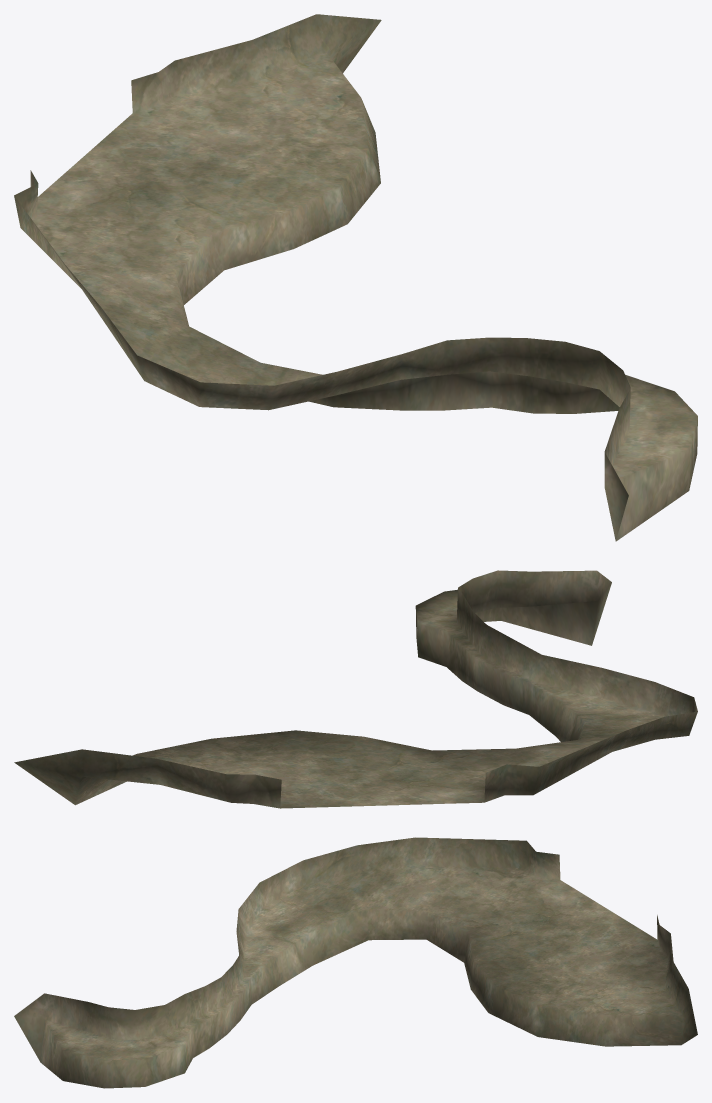
The model's file is EKH_CAVERNS_PS_CA_OBJECT09.fbx.
3 renders of one model, top to bottom at view 1: azimuth 30°, elevation 25°; view 2: azimuth 150°, elevation 25°; view 3: azimuth 270°, elevation 25°, orthographic. The views are drawn at different scales.
Visible parts, largest first — view 1: EKH_CAVERNS_PS_CA_OBJECT09; view 2: EKH_CAVERNS_PS_CA_OBJECT09; view 3: EKH_CAVERNS_PS_CA_OBJECT09.
Part boxes in pixels (box(x1,y1,x2,y2)): EKH_CAVERNS_PS_CA_OBJECT09: box(14, 14, 697, 541); EKH_CAVERNS_PS_CA_OBJECT09: box(14, 570, 697, 808); EKH_CAVERNS_PS_CA_OBJECT09: box(14, 837, 697, 1088).
Size of the model in its own units: 78906 by 24959 by 123892.
Materials: 1 (1 with a texture image).
